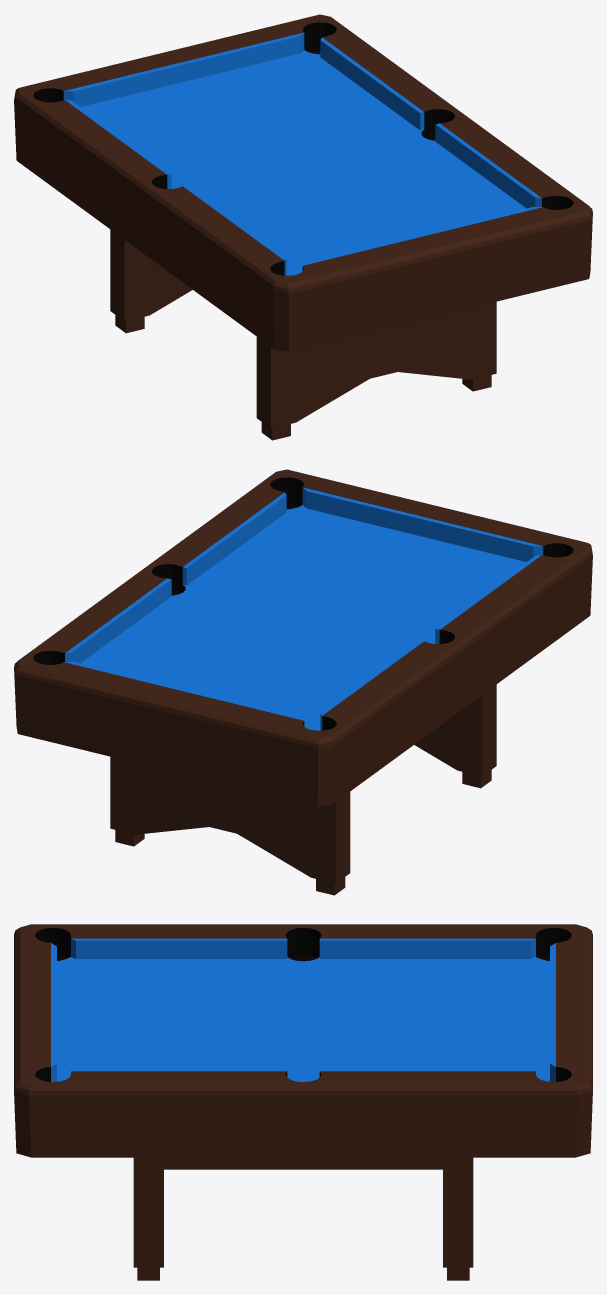
The model's file is prop_bilis.fbx.
The picture shows the model from 3 angles, top to bottom: view 1: azimuth 30°, elevation 25°; view 2: azimuth 150°, elevation 25°; view 3: azimuth 270°, elevation 25°; orthographic projection. The views are drawn at different scales.
Visible parts, largest first — view 1: Cube.005; view 2: Cube.005; view 3: Cube.005.
Boxes of the visible parts, x1,y1,x2,y2 form: Cube.005: [14, 14, 592, 440]; Cube.005: [14, 469, 592, 895]; Cube.005: [14, 924, 592, 1280].
Bounding box in the file's own units: 1235 × 766 × 1834.
